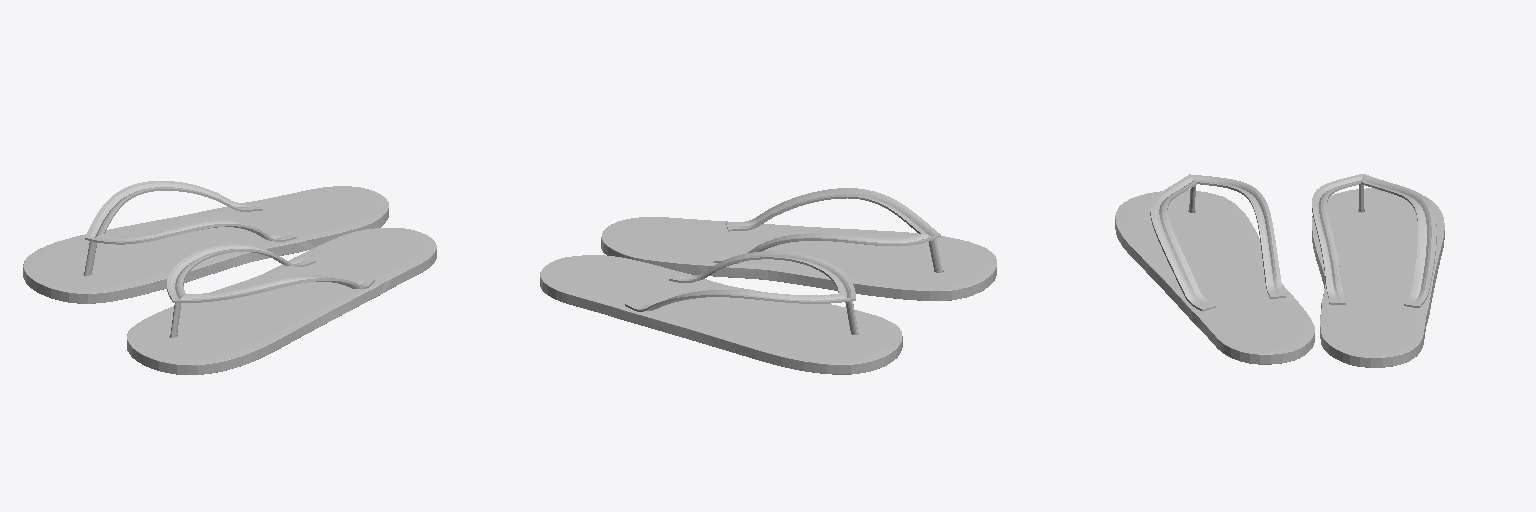
Rendered from Chancletas OBJ.obj.
3 views of the same model, side by side, from view 1: azimuth 30°, elevation 25°; view 2: azimuth 150°, elevation 25°; view 3: azimuth 270°, elevation 25° (orthographic).
Parts seen in each view (by area): view 1: suela_left, SUela_Right, Cinta_right, Cinta_left; view 2: SUela_Right, suela_left, Cinta_left, Cinta_right; view 3: suela_left, SUela_Right, Cinta_right, Cinta_left.
Boxes of the visible parts, x1,y1,x2,y2 form: suela_left: [127, 228, 436, 374]; SUela_Right: [23, 186, 388, 303]; Cinta_right: [84, 181, 296, 275]; Cinta_left: [167, 244, 374, 337]; SUela_Right: [540, 255, 902, 374]; suela_left: [601, 217, 996, 300]; Cinta_left: [714, 188, 942, 272]; Cinta_right: [625, 251, 858, 334]; suela_left: [1115, 190, 1314, 364]; SUela_Right: [1312, 188, 1444, 367]; Cinta_right: [1312, 174, 1436, 307]; Cinta_left: [1150, 174, 1285, 311].
Size of the model in its own units: 190 by 28.49 by 156.